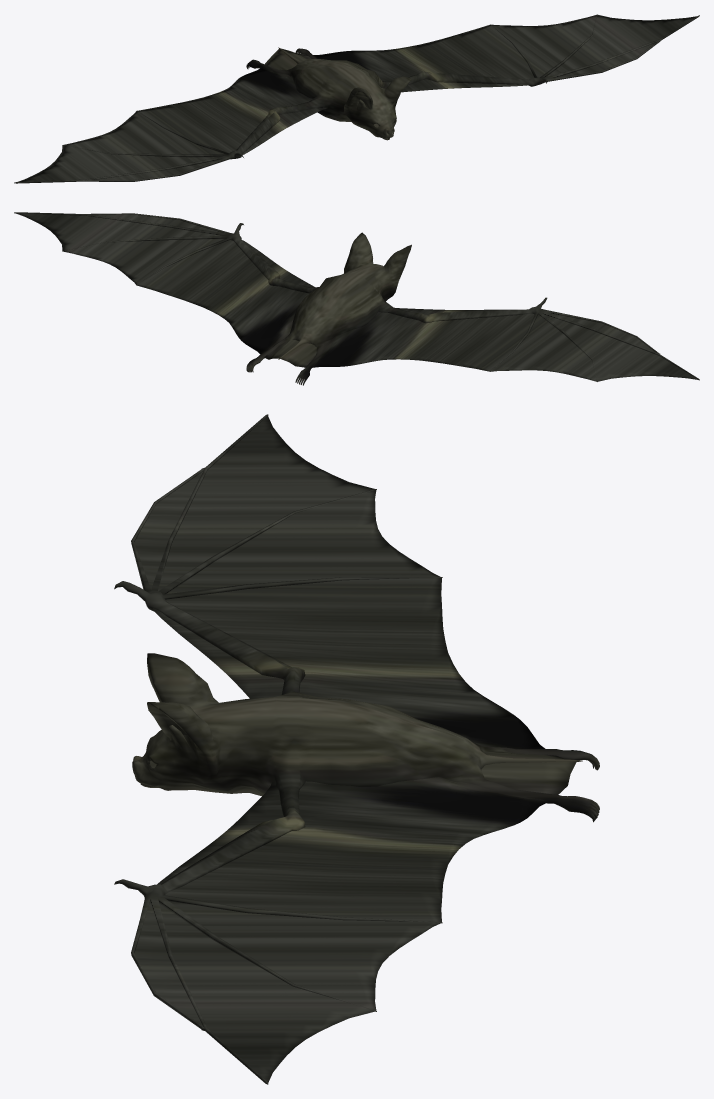
File: bat.obj
The picture shows the model from 3 angles, top to bottom: view 1: azimuth 30°, elevation 25°; view 2: azimuth 150°, elevation 25°; view 3: azimuth 270°, elevation 25°; orthographic projection. The views are drawn at different scales.
Parts seen in each view (by area): view 1: bat; view 2: bat; view 3: bat.
Boxes of the visible parts, x1,y1,x2,y2 form: bat: (14, 14, 699, 183); bat: (14, 212, 699, 385); bat: (114, 414, 599, 1084).
Bounding box in the file's own units: 0.2199 × 0.0202 × 0.0675.
Materials: 1 (1 with a texture image).
